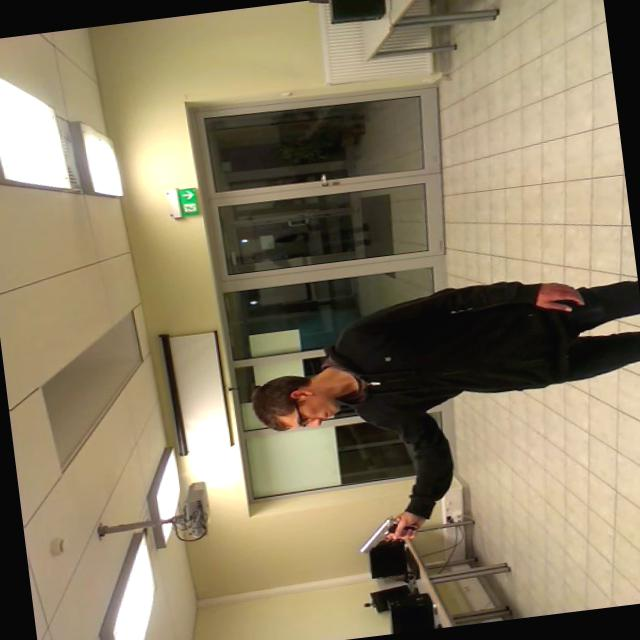handgun: (340, 502, 429, 562)
